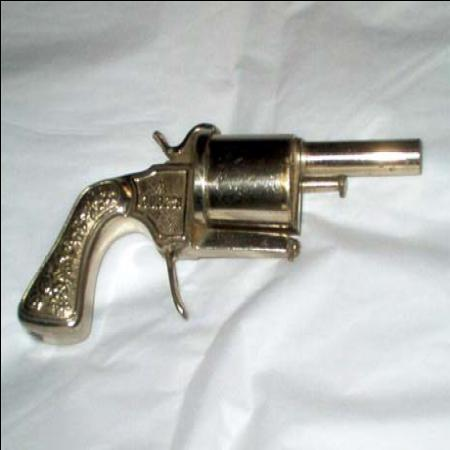Pistol: (16, 120, 425, 343)
